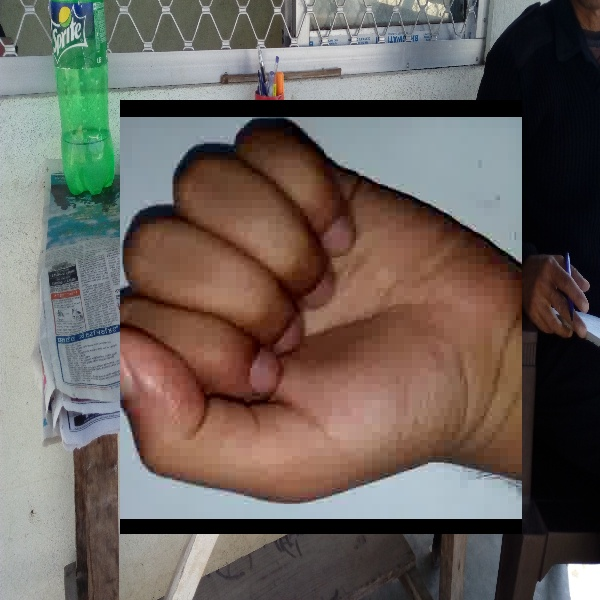A: (120, 100, 522, 534)
